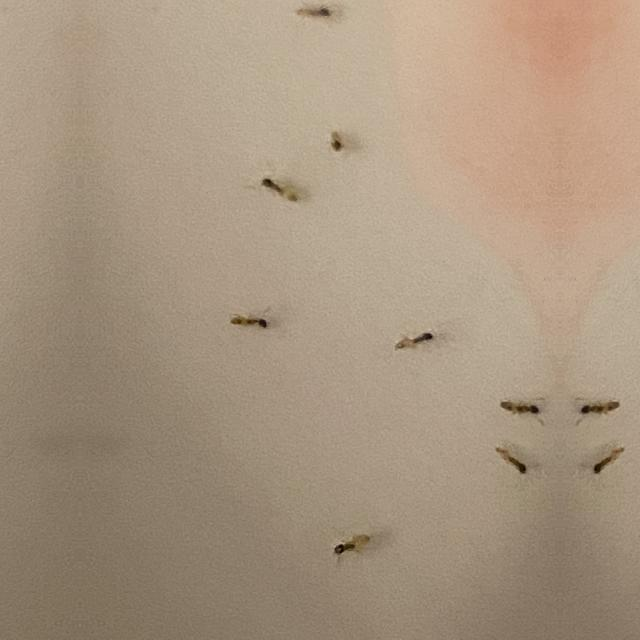Tapinoma: (389, 324, 436, 358), (330, 528, 374, 562), (492, 443, 530, 481), (590, 443, 628, 481), (495, 396, 543, 424), (577, 396, 625, 424), (226, 310, 272, 338), (256, 174, 298, 200), (291, 5, 331, 21), (326, 127, 348, 153)
